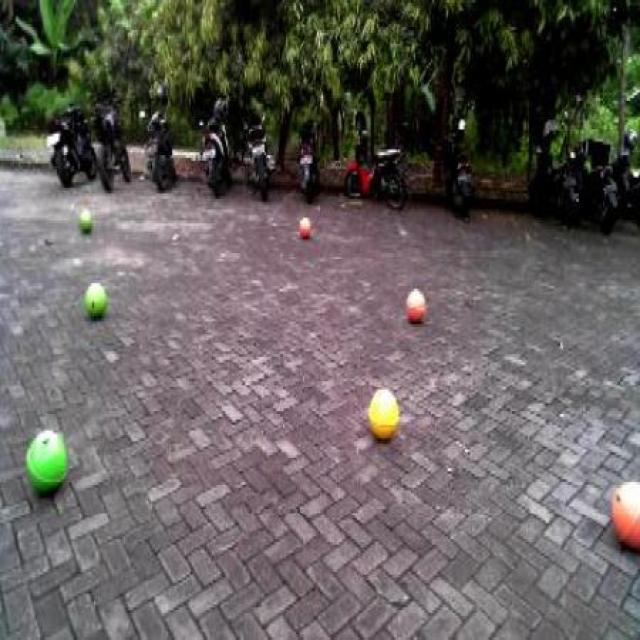buoy: (23, 420, 69, 509), (607, 471, 639, 559), (367, 380, 402, 451), (403, 278, 428, 328), (83, 274, 108, 322)
